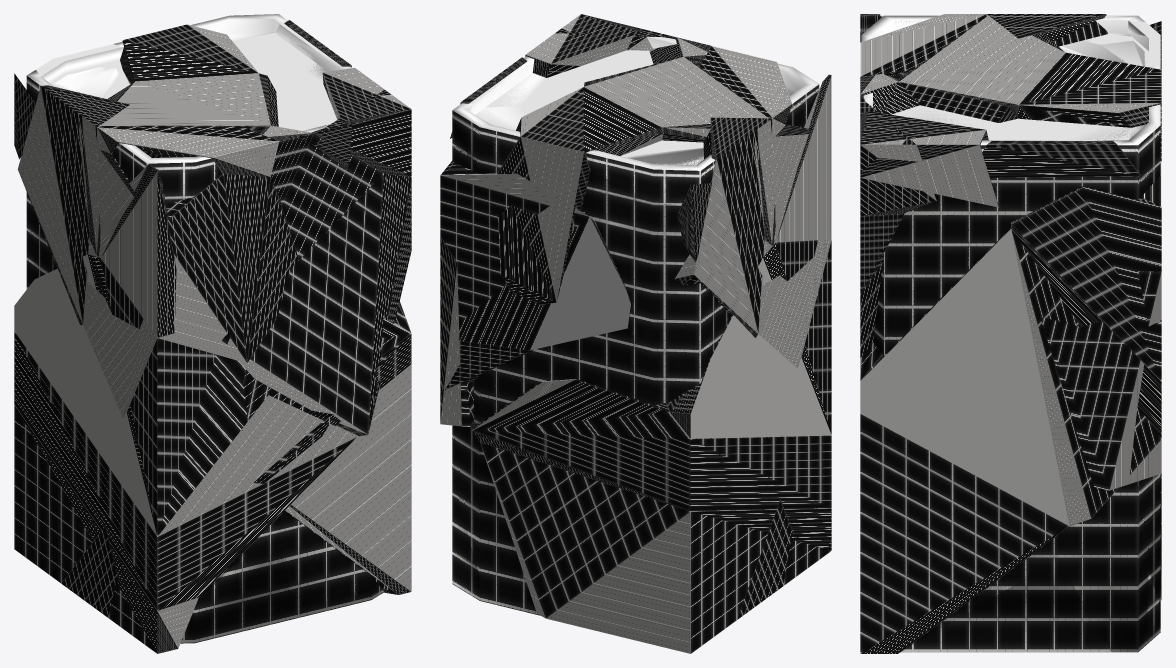
3 views of the same model, side by side, from view 1: azimuth 30°, elevation 25°; view 2: azimuth 150°, elevation 25°; view 3: azimuth 270°, elevation 25° (orthographic). The views are drawn at different scales.
Parts seen in each view (by area): view 1: pCube1_cell.027, pCube1_cell.041, pCube1_cell.024, pCube1_cell.052, pCube1_cell.009, pCube1_cell.036, pCube1_cell.002, pCube1_cell.040, pCube1_cell.031, pCube1, pCube1_cell.050, pCube1_cell.030 (+18 smaller); view 2: pCube1_cell.036, pCube1_cell.027, pCube1_cell.013, pCube1_cell.041, pCube1_cell.037, pCube1_cell.002, pCube1_cell.040, pCube1_cell.010, pCube1_cell.032, pCube1_cell.039, pCube1_cell.024, pCube1_cell.026 (+22 smaller); view 3: pCube1_cell.008, pCube1_cell.009, pCube1_cell.013, pCube1_cell.044, pCube1, pCube1_cell.040, pCube1_cell.014, pCube1_cell.045, pCube1_cell.022, pCube1_cell.037, pCube1_cell.020, pCube1_cell.048 (+16 smaller).
Boxes of the visible parts, x1,y1,x2,y2 form: pCube1_cell.027: (14, 331, 357, 610); pCube1_cell.041: (14, 254, 247, 536); pCube1_cell.024: (83, 150, 303, 419); pCube1_cell.052: (221, 173, 411, 436); pCube1_cell.009: (284, 364, 411, 594); pCube1_cell.036: (14, 405, 198, 653); pCube1_cell.002: (17, 85, 129, 325); pCube1_cell.040: (79, 73, 278, 256); pCube1_cell.031: (100, 164, 176, 337); pCube1: (26, 23, 342, 570); pCube1_cell.050: (261, 125, 383, 259); pCube1_cell.030: (188, 525, 383, 639); pCube1_cell.036: (480, 442, 831, 653); pCube1_cell.027: (470, 379, 831, 511); pCube1_cell.013: (440, 161, 630, 350); pCube1_cell.041: (667, 240, 831, 438); pCube1_cell.037: (497, 87, 663, 304); pCube1_cell.002: (675, 117, 775, 338); pCube1_cell.040: (584, 56, 775, 245); pCube1_cell.010: (473, 329, 691, 423); pCube1_cell.032: (574, 171, 731, 358); pCube1_cell.039: (452, 425, 536, 614); pCube1_cell.024: (758, 124, 831, 368); pCube1_cell.026: (593, 155, 690, 288); pCube1_cell.008: (860, 228, 1161, 526); pCube1_cell.009: (860, 414, 1069, 653); pCube1_cell.013: (1010, 161, 1161, 380); pCube1_cell.044: (1040, 268, 1161, 490); pCube1: (870, 16, 1160, 651); pCube1_cell.040: (888, 15, 1065, 122); pCube1_cell.014: (901, 559, 1110, 652); pCube1_cell.045: (884, 200, 995, 355); pCube1_cell.022: (860, 111, 998, 207); pCube1_cell.037: (1018, 52, 1161, 161); pCube1_cell.020: (1059, 520, 1160, 652); pCube1_cell.048: (982, 141, 1140, 177).
Size of the model in its own units: 1294 by 2349 by 1261.
